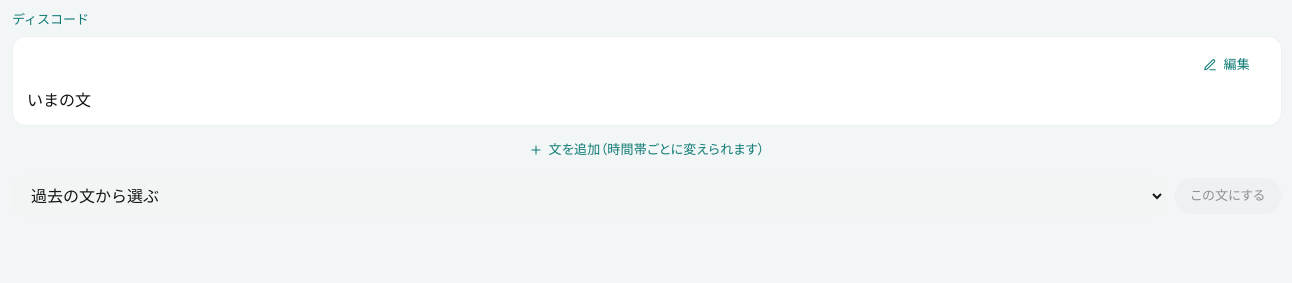
Scenario: ChannelTextRow（トップの一番上の、いま投稿されている文） › 別の端末で先に保存されていたら、最新だけ取り込み、理由を出す
The width and height of the screenshot is (1292, 283).
Select "前の文その1" in the dropdown named "ディスコードの過去の文": (589, 196) [12, 174, 1166, 218]
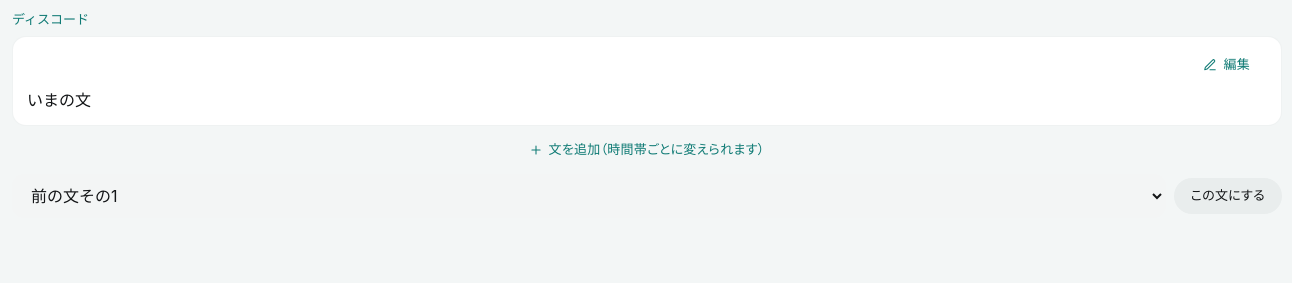
Click the button "この文にする": (1228, 196) [1174, 178, 1282, 214]
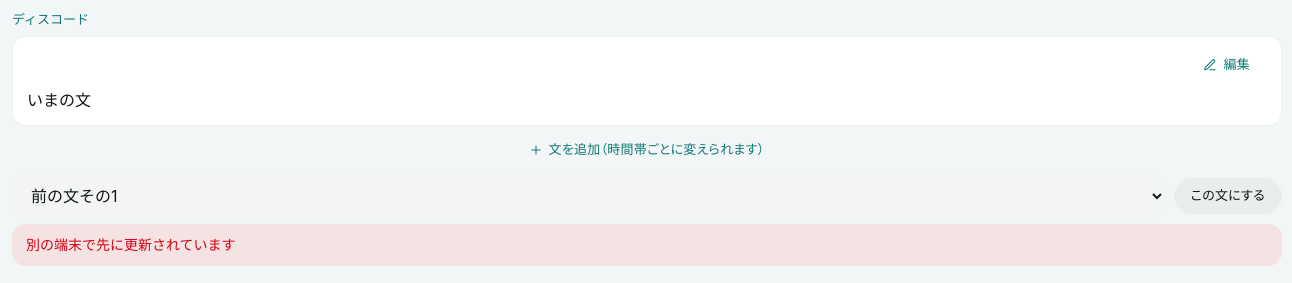
Expected: the message reads "別の端末で先に更新されています", [26, 236, 236, 253]
